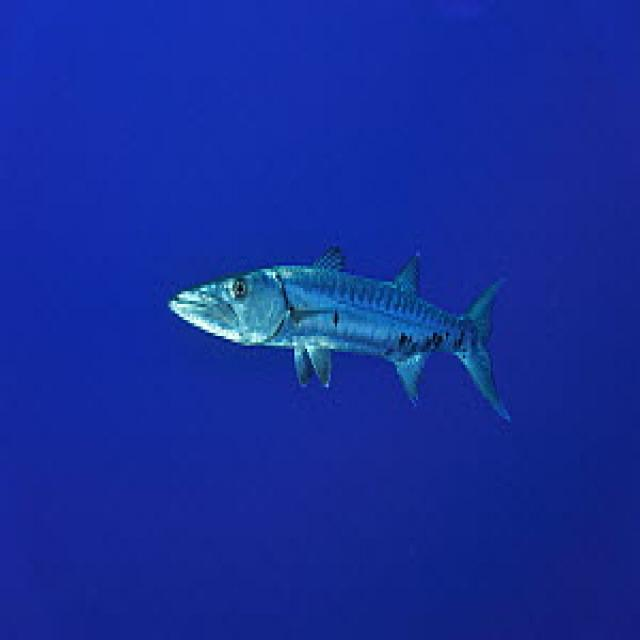Barracuda: (162, 240, 512, 426)
